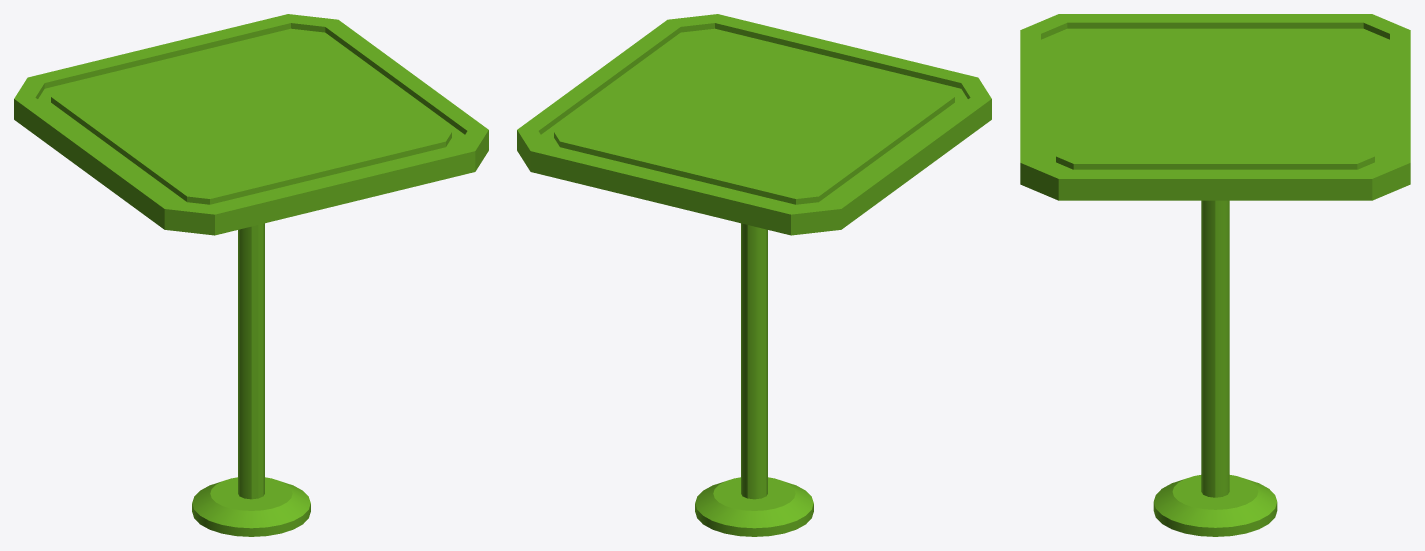
The model's file is Furn_Table_t1.fbx.
3 views of the same model, side by side, from view 1: azimuth 30°, elevation 25°; view 2: azimuth 150°, elevation 25°; view 3: azimuth 270°, elevation 25° (orthographic). The views are drawn at different scales.
Parts seen in each view (by area): view 1: Furn_Table_t1; view 2: Furn_Table_t1; view 3: Furn_Table_t1.
Boxes of the visible parts, x1,y1,x2,y2 form: Furn_Table_t1: [14, 14, 488, 536]; Furn_Table_t1: [517, 14, 991, 536]; Furn_Table_t1: [1020, 14, 1410, 536].
Size of the model in its own units: 0.9659 by 1.13 by 0.9659.
